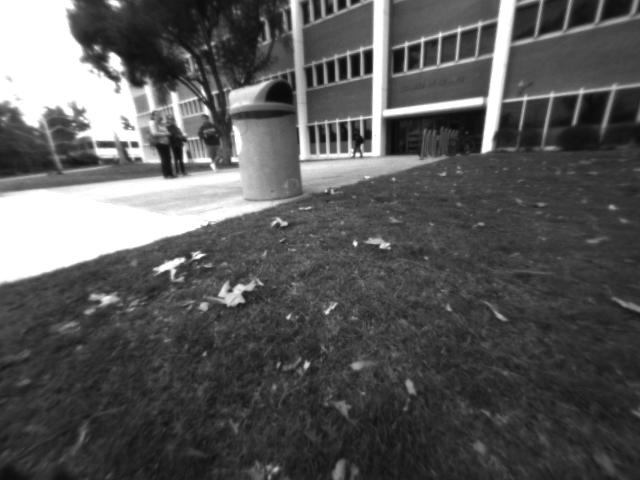trashcan: (223, 78, 309, 202)
